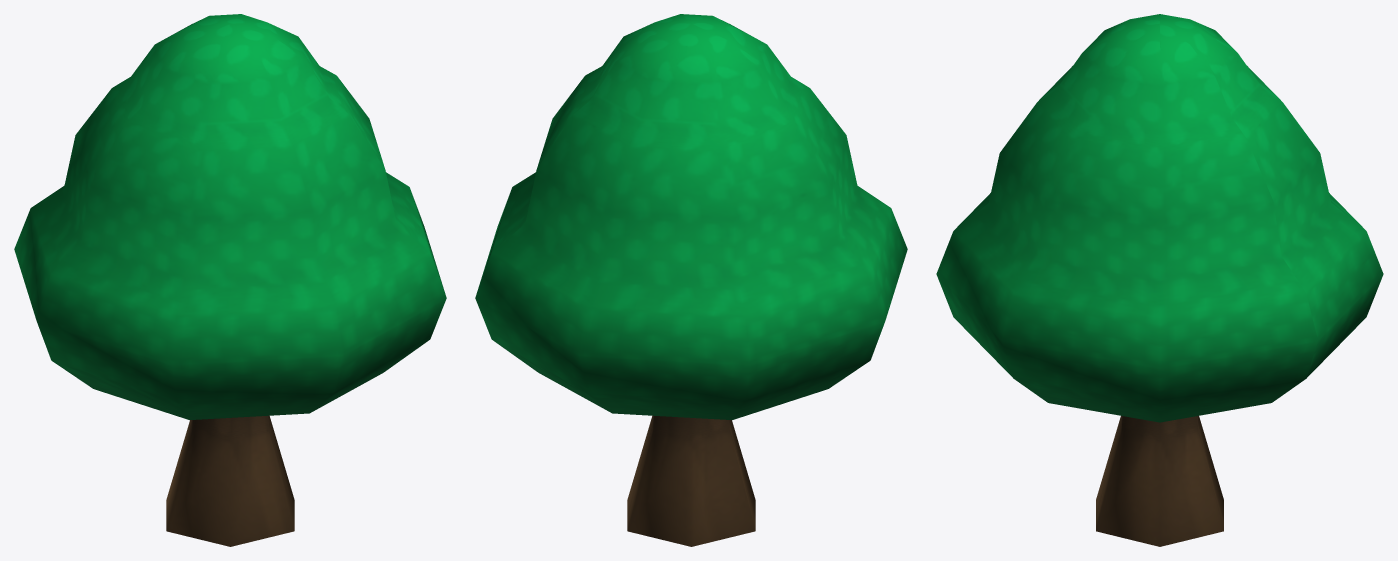
Rendered from Tree.fbx.
3 views of the same model, side by side, from view 1: azimuth 30°, elevation 25°; view 2: azimuth 150°, elevation 25°; view 3: azimuth 270°, elevation 25° (orthographic).
Visible parts, largest first — view 1: Tree; view 2: Tree; view 3: Tree.
Boxes of the visible parts, box(x1,y1,x2,y2) form: Tree: box(14, 14, 446, 546); Tree: box(475, 14, 907, 546); Tree: box(936, 14, 1383, 546).
Bounding box in the file's own units: 404 × 518 × 404.
